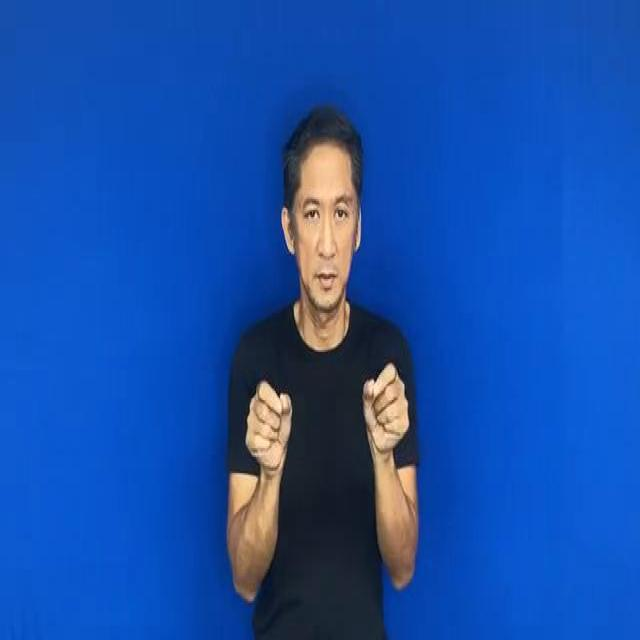crab: (237, 356, 310, 489), (348, 356, 424, 459)
